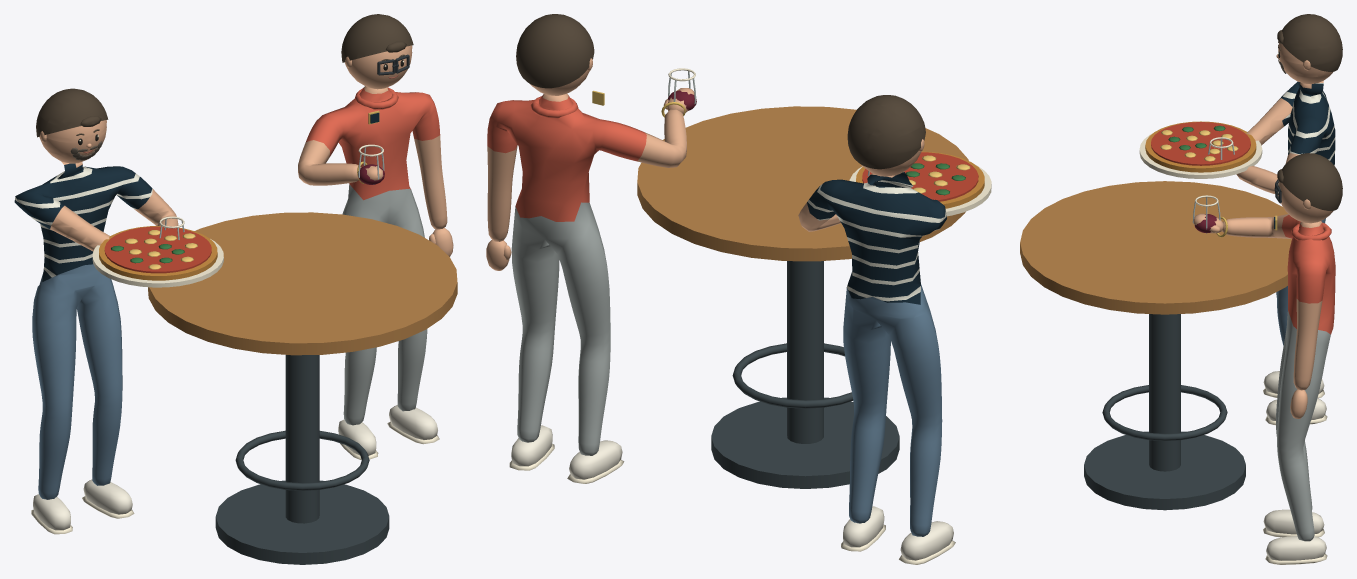
The model's file is pizza_vrienden_statafel.glb.
The picture shows the model from 3 angles, left to right: view 1: azimuth 30°, elevation 25°; view 2: azimuth 150°, elevation 25°; view 3: azimuth 270°, elevation 25°; orthographic projection. The views are drawn at different scales.
Parts seen in each view (by area): view 1: StatafelPizza, ManGestreept, ManRodePolo, BaardPizzaEnWijn, BrilEnWijn; view 2: StatafelPizza, ManRodePolo, ManGestreept, BaardPizzaEnWijn, BrilEnWijn; view 3: StatafelPizza, ManRodePolo, ManGestreept, BaardPizzaEnWijn, BrilEnWijn.
Part boxes in pixels (left/top/right/bottom): StatafelPizza: left=148, top=212, right=457, bottom=564; ManGestreept: left=14, top=88, right=178, bottom=534; ManRodePolo: left=298, top=14, right=453, bottom=459; BaardPizzaEnWijn: left=70, top=141, right=223, bottom=287; BrilEnWijn: left=357, top=54, right=409, bottom=184; StatafelPizza: left=637, top=106, right=968, bottom=488; ManRodePolo: left=486, top=14, right=694, bottom=483; ManGestreept: left=798, top=95, right=955, bottom=564; BaardPizzaEnWijn: left=849, top=151, right=991, bottom=216; BrilEnWijn: left=592, top=68, right=696, bottom=117; StatafelPizza: left=1020, top=181, right=1291, bottom=510; ManRodePolo: left=1193, top=153, right=1342, bottom=564; ManGestreept: left=1236, top=14, right=1342, bottom=425; BaardPizzaEnWijn: left=1139, top=58, right=1286, bottom=178; BrilEnWijn: left=1192, top=179, right=1281, bottom=237.
Bounding box in the file's own units: 1.88 × 1.76 × 1.31.
